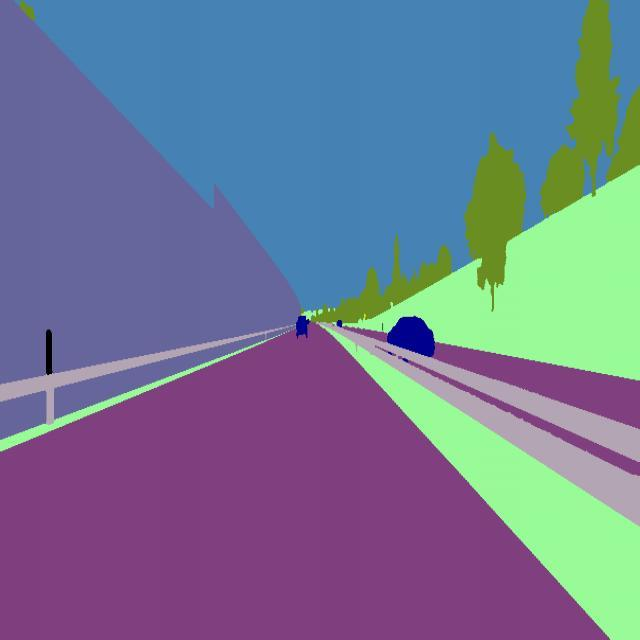safe: (386, 308, 438, 362), (292, 313, 312, 342)
